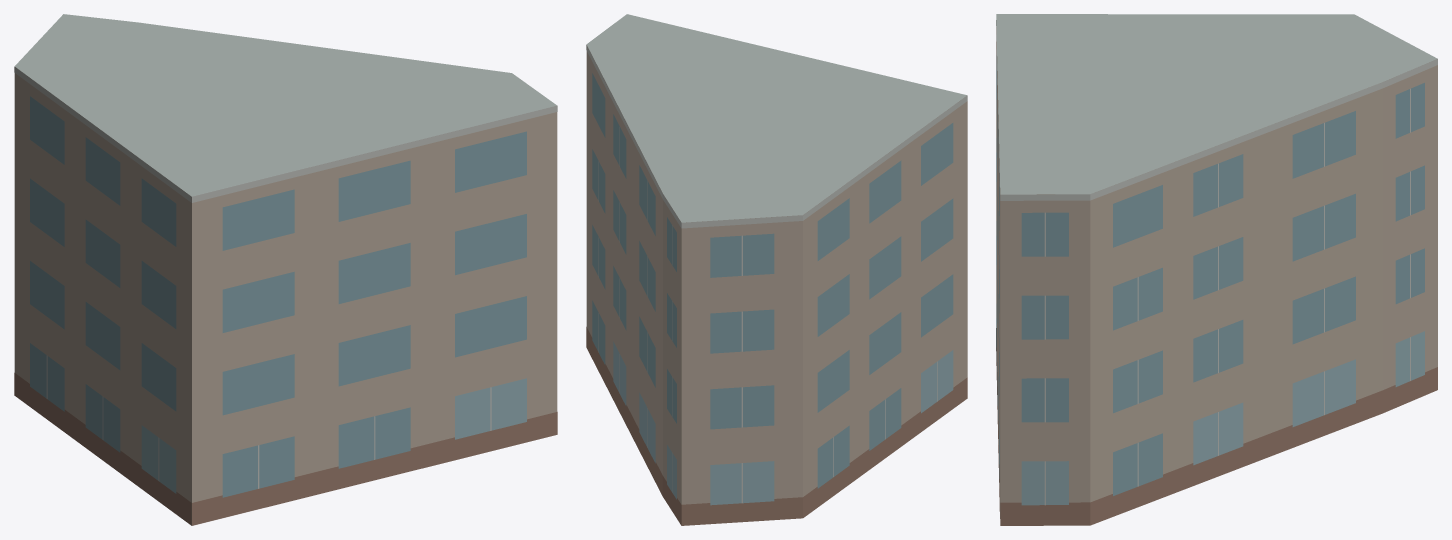
Rendered from survey-upis-32835640.glb.
3 views of the same model, side by side, from view 1: azimuth 30°, elevation 25°; view 2: azimuth 150°, elevation 25°; view 3: azimuth 270°, elevation 25° (orthographic). The views are drawn at different scales.
Parts seen in each view (by area): view 1: survey-upis-32835640.tmp; view 2: survey-upis-32835640.tmp; view 3: survey-upis-32835640.tmp.
Boxes of the visible parts, x1,y1,x2,y2 form: survey-upis-32835640.tmp: (14, 14, 557, 525); survey-upis-32835640.tmp: (586, 14, 967, 525); survey-upis-32835640.tmp: (996, 14, 1437, 525).
Size of the model in its own units: 14.97 by 12.8 by 15.48.
